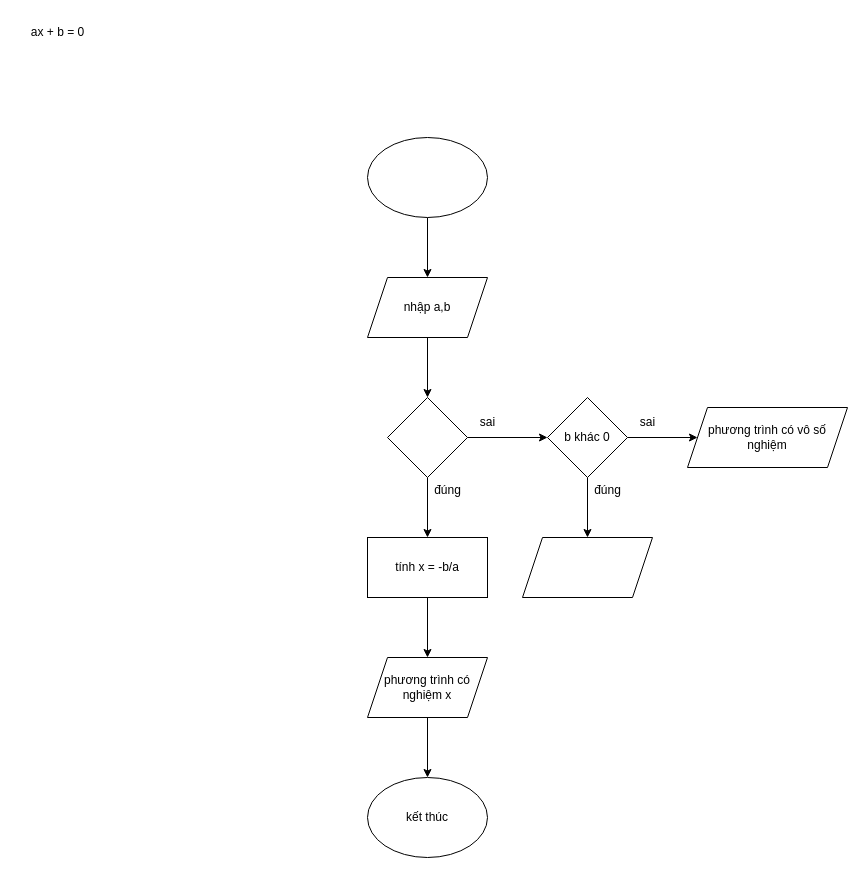
Image size: 865x875. Some labels were removed from this diagram. Each missing label, with the box of its shape:
a khác 0: (386, 396, 468, 478)
bắt đầu: (366, 136, 488, 218)
phương trình vô nghiệm: (522, 536, 652, 598)
